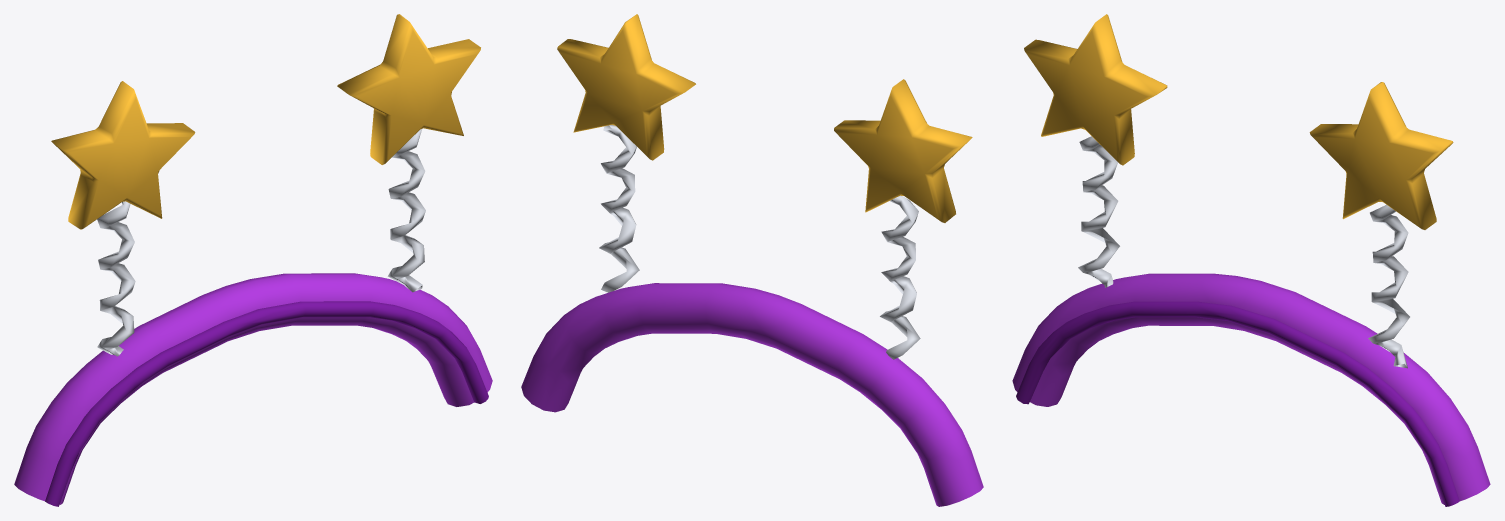
File: starheadband.glb
The picture shows the model from 3 angles, left to right: view 1: azimuth 30°, elevation 25°; view 2: azimuth 150°, elevation 25°; view 3: azimuth 330°, elevation 25°; orthographic projection. The views are drawn at different scales.
Visible parts, largest first — view 1: starheadband_Headband, starheadband_Star 1, starheadband_Star -1, starheadband_Headband Accent, starheadband_Spring -1, starheadband_Spring 1; view 2: starheadband_Headband, starheadband_Star 1, starheadband_Star -1, starheadband_Spring 1, starheadband_Spring -1; view 3: starheadband_Headband, starheadband_Star -1, starheadband_Star 1, starheadband_Headband Accent, starheadband_Spring 1, starheadband_Spring -1.
Boxes of the visible parts, left/top/right/bottom form: starheadband_Headband: left=14, top=273, right=492, bottom=504; starheadband_Star 1: left=337, top=14, right=480, bottom=164; starheadband_Star -1: left=51, top=81, right=195, bottom=229; starheadband_Headband Accent: left=45, top=301, right=488, bottom=506; starheadband_Spring -1: left=97, top=201, right=135, bottom=356; starheadband_Spring 1: left=387, top=129, right=425, bottom=292; starheadband_Headband: left=521, top=283, right=983, bottom=506; starheadband_Star 1: left=557, top=14, right=695, bottom=160; starheadband_Star -1: left=834, top=79, right=972, bottom=222; starheadband_Spring 1: left=599, top=125, right=639, bottom=292; starheadband_Spring -1: left=880, top=195, right=920, bottom=359; starheadband_Headband: left=1012, top=273, right=1490, bottom=504; starheadband_Star -1: left=1024, top=14, right=1167, bottom=165; starheadband_Star 1: left=1309, top=82, right=1453, bottom=229; starheadband_Headband Accent: left=1016, top=301, right=1459, bottom=506; starheadband_Spring 1: left=1368, top=204, right=1409, bottom=368; starheadband_Spring -1: left=1078, top=136, right=1119, bottom=287.
Bounding box in the file's own units: 0.535 × 0.4447 × 0.0682.
